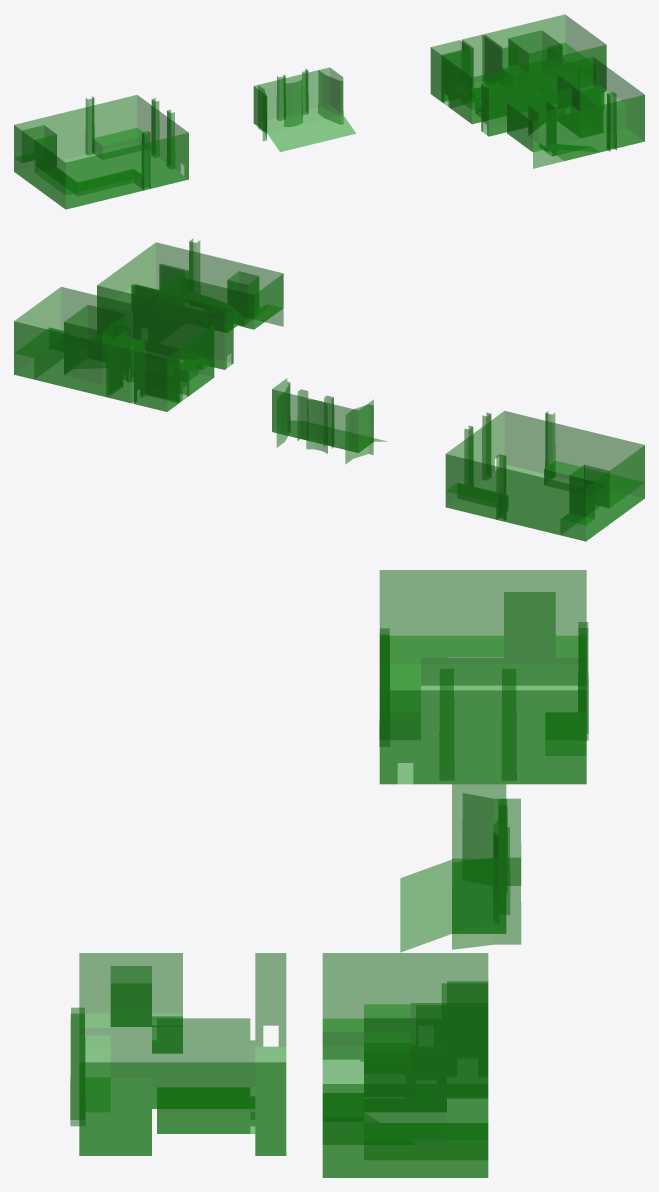
File: camera_col.obj
3 views of the same model, one above another, from view 1: azimuth 30°, elevation 25°; view 2: azimuth 150°, elevation 25°; view 3: azimuth 270°, elevation 25° (orthographic). The views are drawn at different scales.
Bounding box in the file's own units: 235 × 26.97 × 100.
